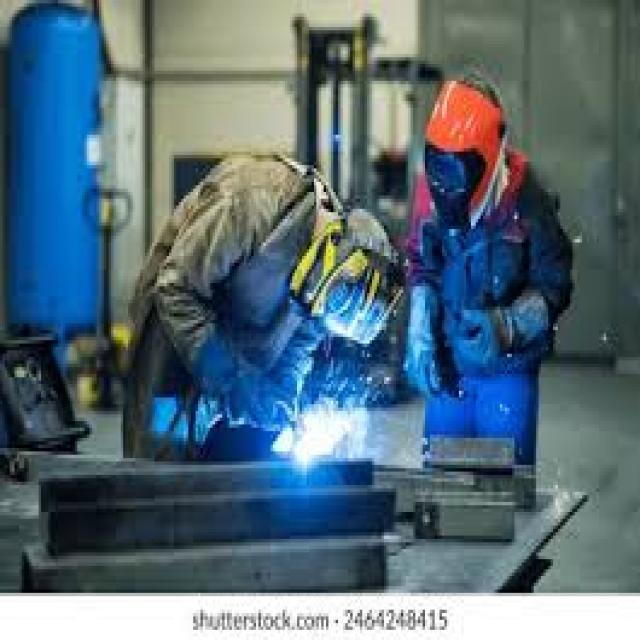welding: (291, 434, 317, 465)
